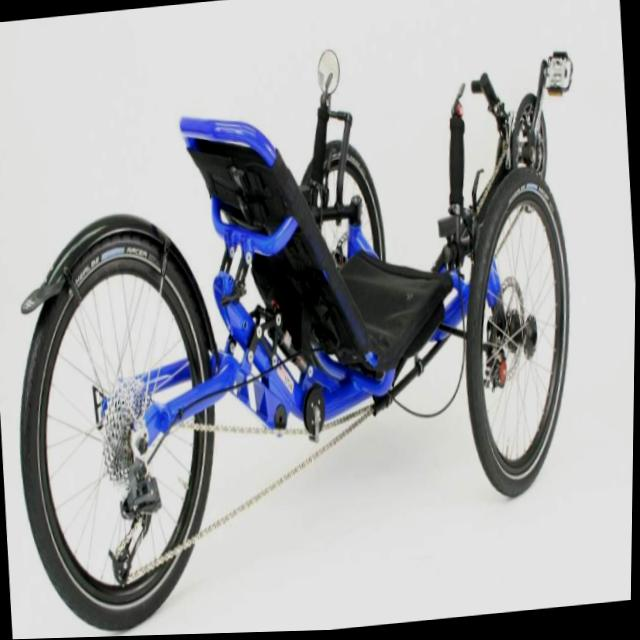recumbent-bike: (0, 22, 611, 640)
